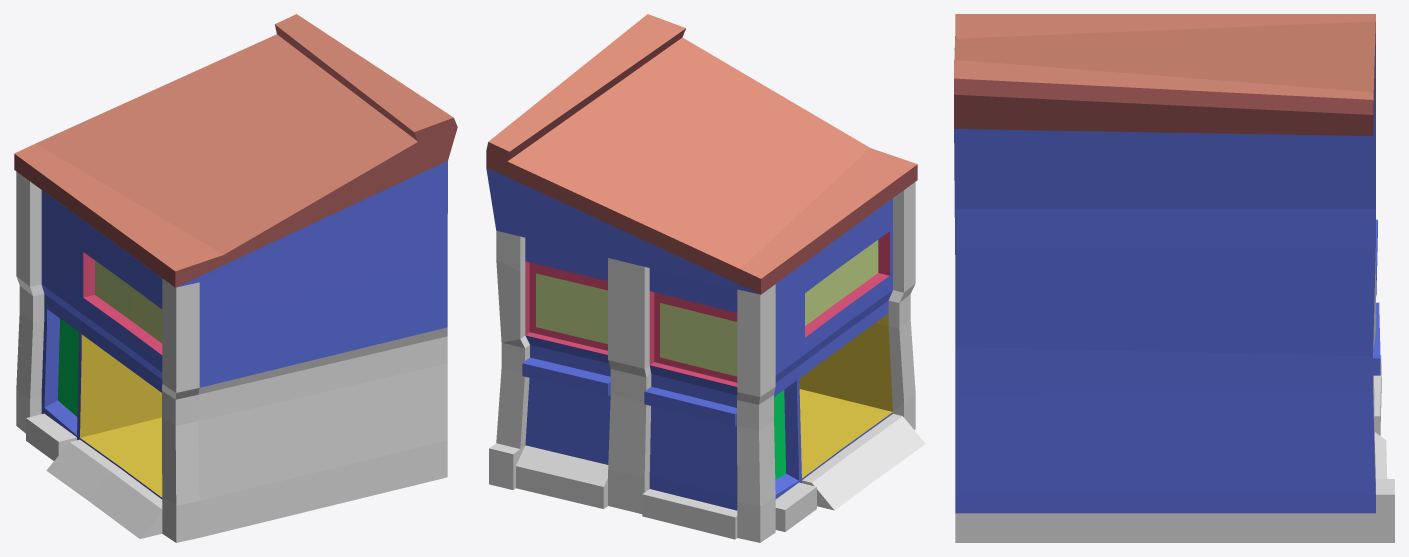
File: RMK Modelo TOON Casinha Telhado 2.fbx
3 renders of one model, left to right at view 1: azimuth 30°, elevation 25°; view 2: azimuth 150°, elevation 25°; view 3: azimuth 270°, elevation 25°, orthographic. The views are drawn at different scales.
Parts seen in each view (by area): view 1: Cube; view 2: Cube; view 3: Cube.
Boxes of the visible parts, left/top/right/bottom form: Cube: left=14, top=14, right=457, bottom=542; Cube: left=486, top=14, right=925, bottom=542; Cube: left=954, top=14, right=1394, bottom=542.
Bounding box in the file's own units: 225 × 252 × 215.
Materials: 1 (1 with a texture image).
